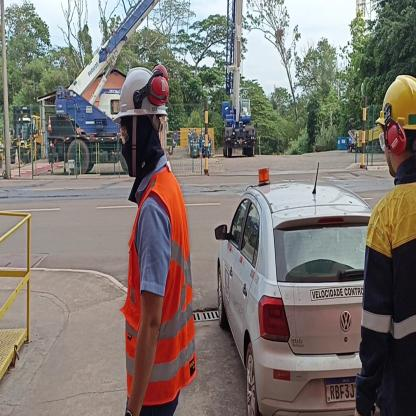Balaclava: (114, 122, 170, 177)
C_eletrica: (365, 193, 416, 416)
Capacete: (115, 61, 168, 119), (374, 68, 416, 134)
colete: (123, 178, 199, 398)
